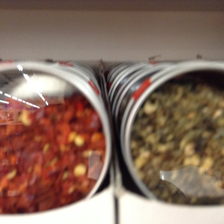spices: (1, 60, 111, 217), (120, 61, 224, 207)
